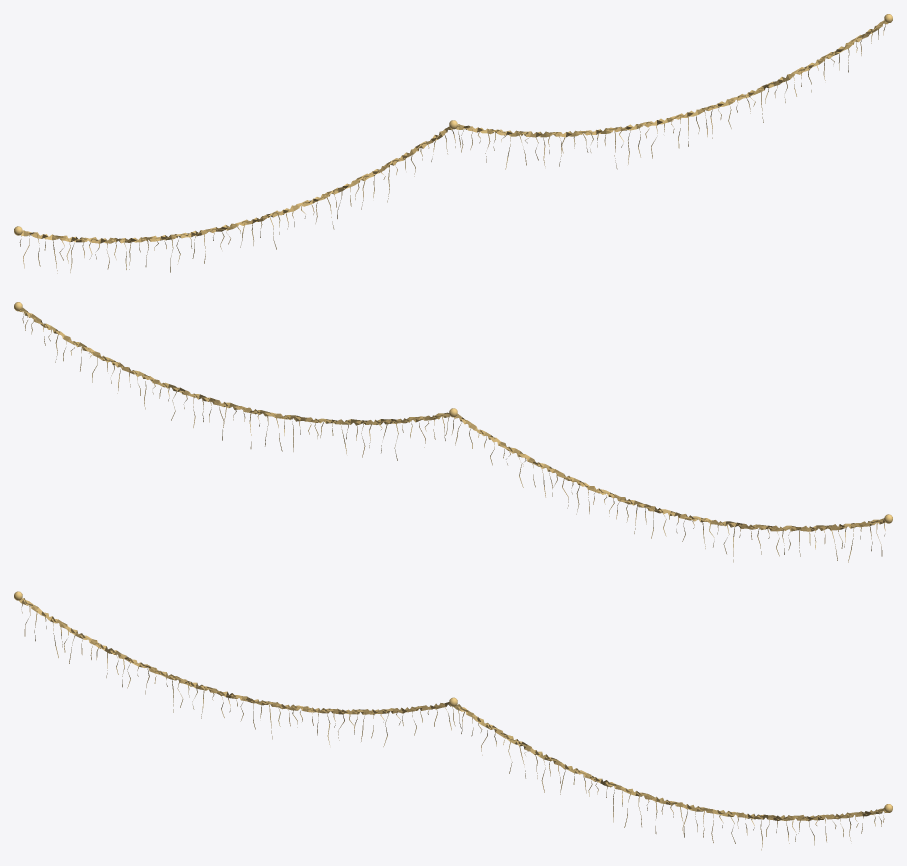
Rendered from prop_schmuck_tinsel_1.glb.
The picture shows the model from 3 angles, top to bottom: view 1: azimuth 30°, elevation 25°; view 2: azimuth 150°, elevation 25°; view 3: azimuth 330°, elevation 25°; orthographic projection.
Visible parts, largest first — view 1: tinsel_0_mesh; view 2: tinsel_0_mesh; view 3: tinsel_0_mesh.
Part boxes in pixels (x1=…): tinsel_0_mesh: x1=19, y1=20, x2=887, y2=273; tinsel_0_mesh: x1=19, y1=307, x2=885, y2=562; tinsel_0_mesh: x1=19, y1=598, x2=886, y2=850.
Bounding box in the file's own units: 2.58 × 0.2485 × 0.0288.
